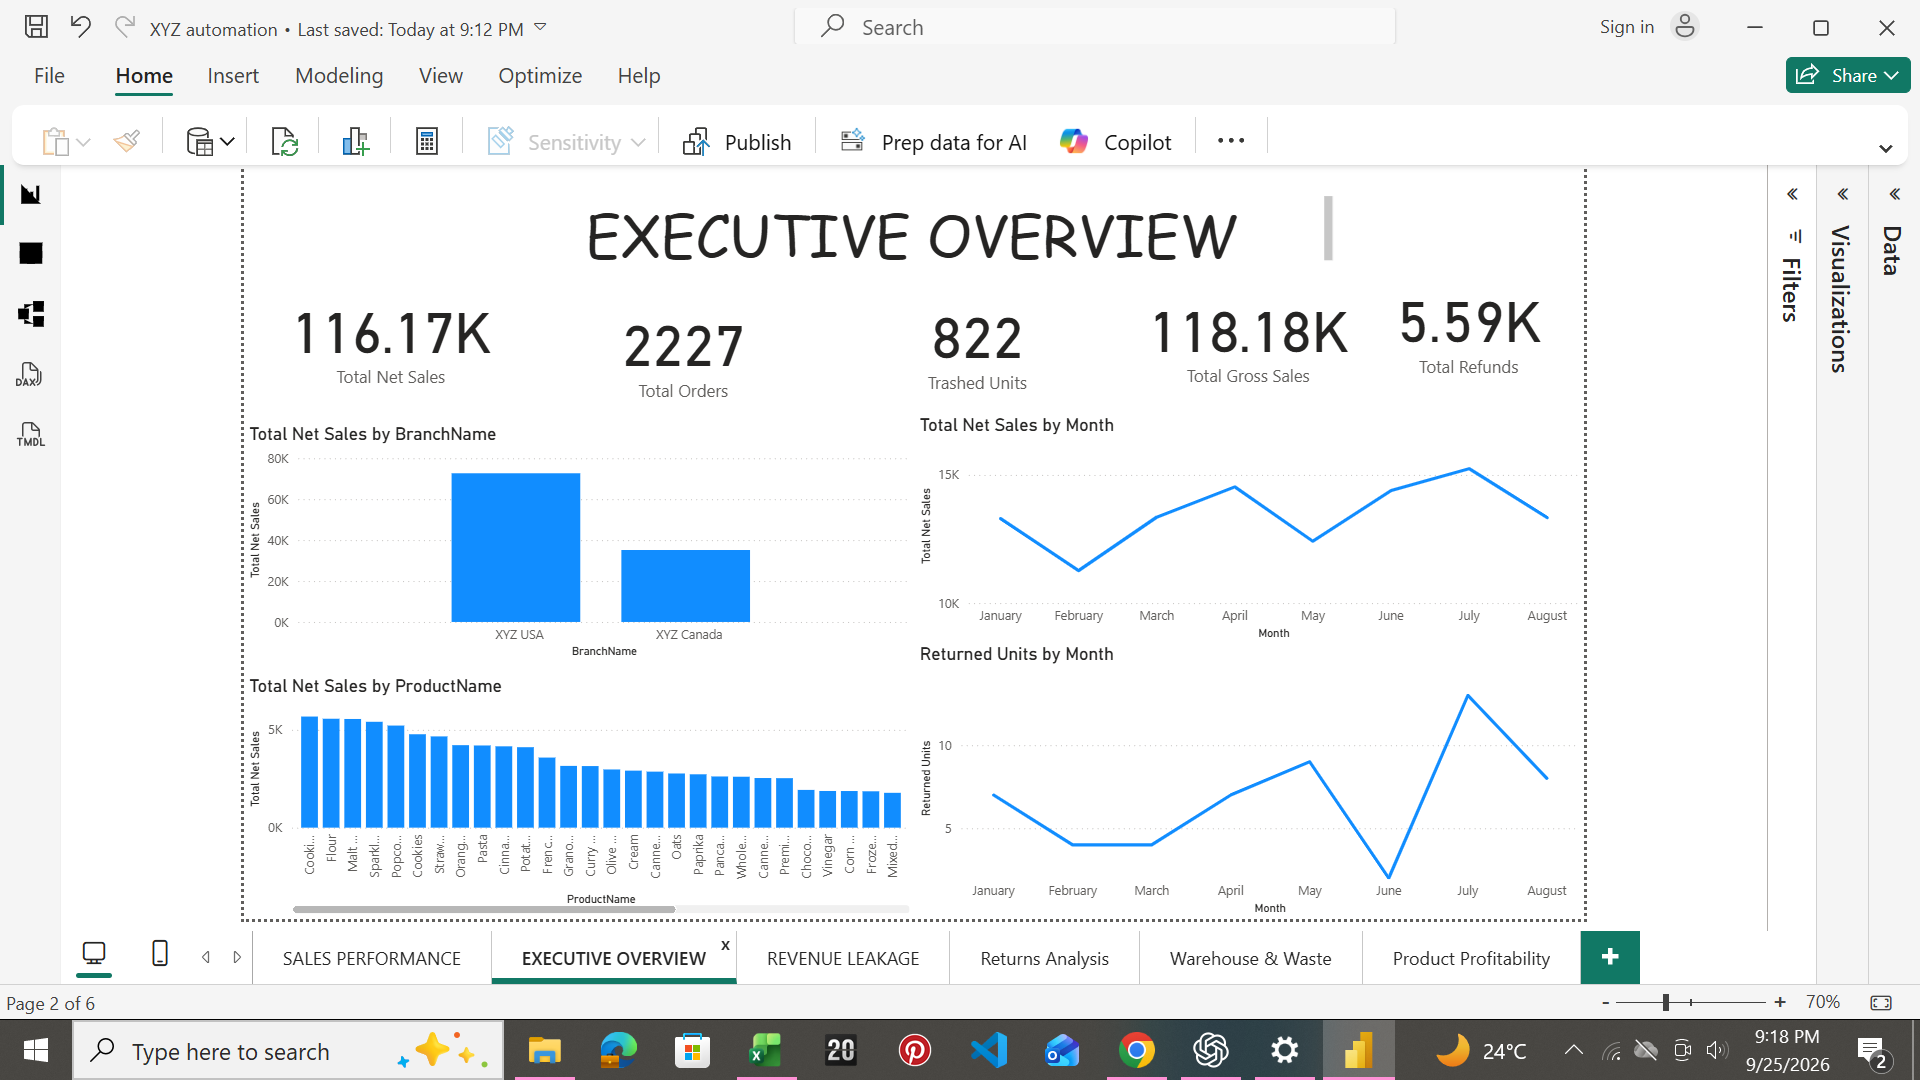

What the dashboard file says about the page in this screenshot:
{"tool":"powerbi","page":{"name":"EXECUTIVE OVERVIEW","canvas":[1280,720],"ordinal":1},"visuals":[{"type":"lineChart","fields":{"Category":["stg orders.OrderDate.Variation.Date Hierarchy.Month"],"Y":["Table.Total Net Sales"]},"box":[640.6,238.1,638.7,219.2],"z":0},{"type":"columnChart","fields":{"Y":["Table.Total Net Sales"],"Category":["stg branches.BranchName"]},"box":[0,245.7,640.6,228.7],"z":1000},{"type":"columnChart","fields":{"Category":["stg products.ProductName"],"Y":["Table.Total Net Sales"]},"box":[0,487.6,640.6,232.4],"z":2000},{"type":"lineChart","fields":{"Category":["stg orders.OrderDate.Variation.Date Hierarchy.Month"],"Y":["Table.Returned Units"]},"box":[640.6,457.3,638.7,262.7],"z":3000},{"type":"card","fields":{"Values":["Table.Trashed Units"]},"box":[559.4,102,279.7,134.2],"z":4000},{"type":"card","fields":{"Values":["Table.Total Net Sales"]},"box":[0,88.8,279.7,149.3],"z":5000},{"type":"card","fields":{"Values":["Table.Total Orders"]},"box":[279.7,102,279.7,149.3],"z":6000},{"type":"card","fields":{"Values":["Table.Total Gross Sales"]},"box":[854.2,88.8,209.8,147.4],"z":7000},{"type":"card","fields":{"Values":["Table.Total Refunds"]},"box":[1058.3,64.3,221.1,177.6],"z":8000},{"type":"textbox","box":[321.3,24.6,723.8,77.5],"z":9000}]}

Visuals, with their boxes on the page's 1280x720 design canvas (x1, y1, x2, y2). These are canvas units, not pixel positions in the 1920x1080 screenshot, which may show the page scaled, cropped or inside an application window:
lineChart - stg orders.OrderDate.Variation.Date Hierarchy.Month x Table.Total Net Sales: detection(641, 238, 1279, 457)
columnChart - Table.Total Net Sales x stg branches.BranchName: detection(0, 246, 641, 474)
columnChart - stg products.ProductName x Table.Total Net Sales: detection(0, 488, 641, 720)
lineChart - stg orders.OrderDate.Variation.Date Hierarchy.Month x Table.Returned Units: detection(641, 457, 1279, 720)
card - Table.Trashed Units: detection(559, 102, 839, 236)
card - Table.Total Net Sales: detection(0, 89, 280, 238)
card - Table.Total Orders: detection(280, 102, 559, 251)
card - Table.Total Gross Sales: detection(854, 89, 1064, 236)
card - Table.Total Refunds: detection(1058, 64, 1279, 242)
textbox: detection(321, 25, 1045, 102)
